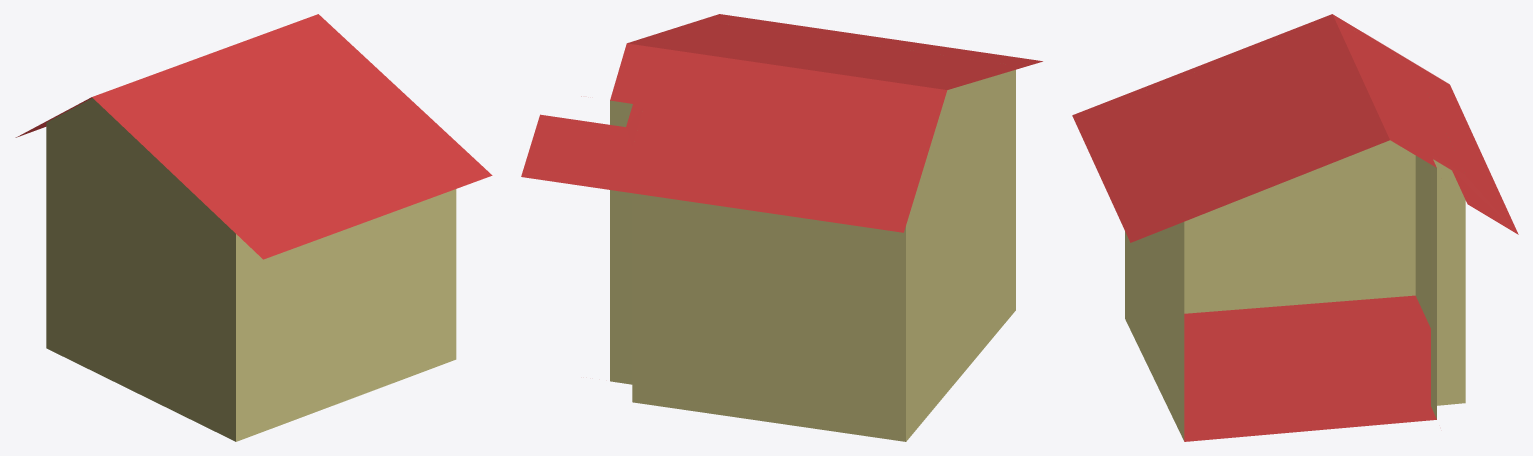
3 renders of one model, left to right at view 1: azimuth 30°, elevation 25°; view 2: azimuth 150°, elevation 25°; view 3: azimuth 270°, elevation 25°, orthographic. The views are drawn at different scales.
Size of the model in its own units: 11.45 by 13.64 by 9.56.
